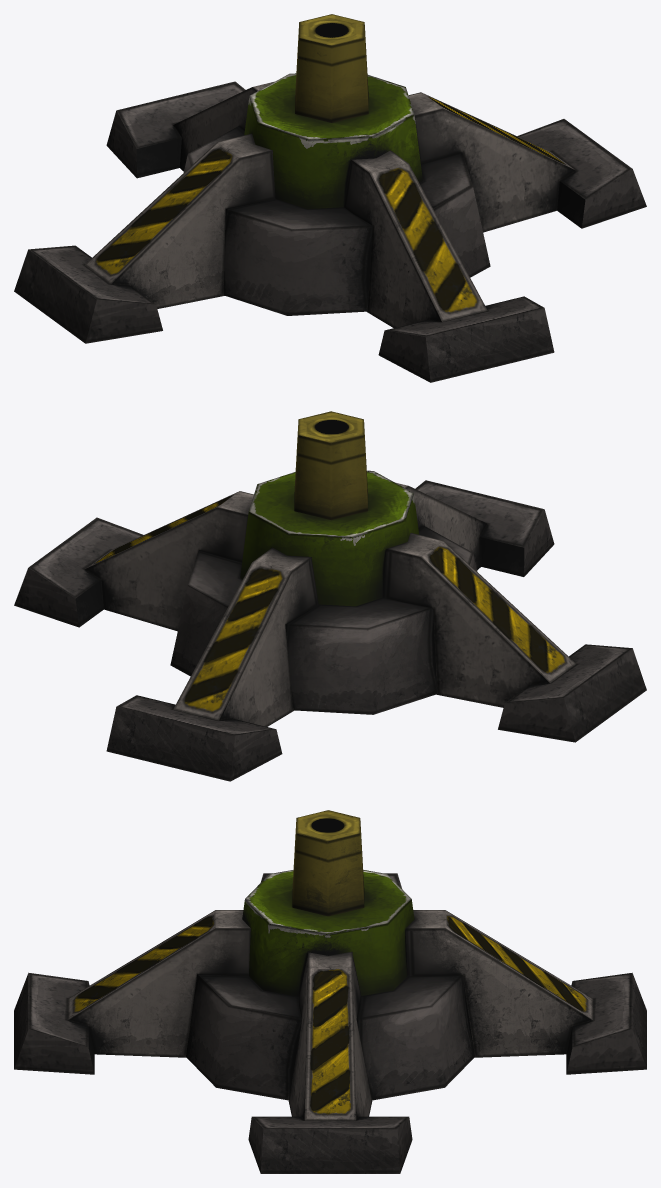
File: Turret_Platform_01.FBX
3 views of the same model, one above another, from view 1: azimuth 30°, elevation 25°; view 2: azimuth 150°, elevation 25°; view 3: azimuth 270°, elevation 25° (orthographic). The views are drawn at different scales.
Visible parts, largest first — view 1: Gun_Platform_01; view 2: Gun_Platform_01; view 3: Gun_Platform_01.
Part boxes in pixels (x1=…): Gun_Platform_01: x1=14, y1=14, x2=646, y2=382; Gun_Platform_01: x1=14, y1=411, x2=646, y2=781; Gun_Platform_01: x1=14, y1=810, x2=646, y2=1173.
Size of the model in its own units: 118 by 118 by 44.16.
